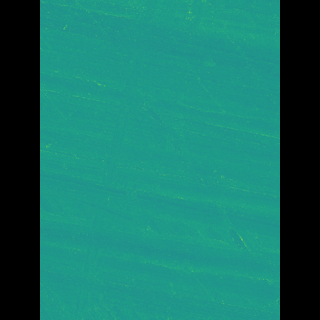Loch: (88, 0, 161, 320), (70, 166, 250, 239)
